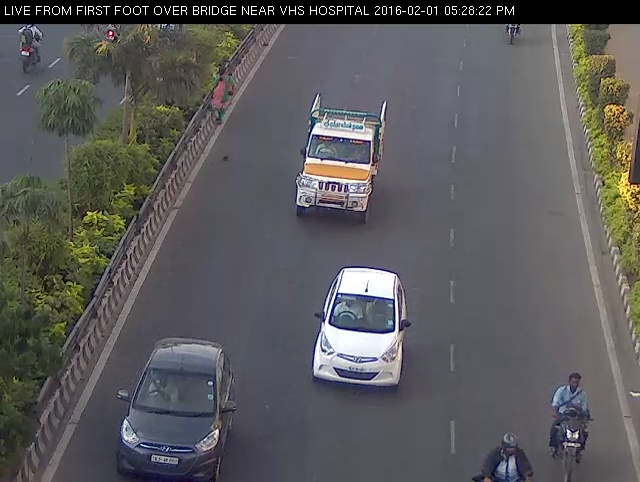Auto: (288, 82, 392, 229)
Car: (116, 329, 239, 481), (306, 259, 415, 396)
Person: (542, 365, 601, 482), (475, 415, 535, 482), (207, 60, 237, 129)
